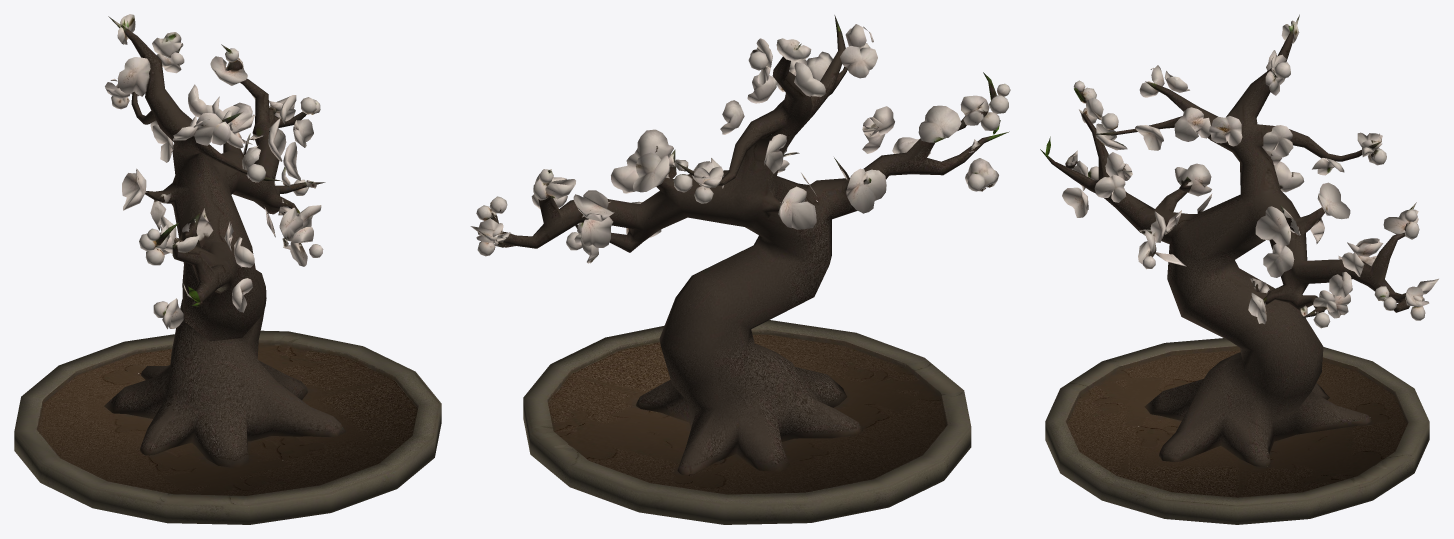
The model's file is tripo_convert_e74b82d9-6e04-4efb-816a-5839c6bb8b53.fbx.
The picture shows the model from 3 angles, left to right: view 1: azimuth 30°, elevation 25°; view 2: azimuth 150°, elevation 25°; view 3: azimuth 270°, elevation 25°; orthographic projection. The views are drawn at different scales.
Parts seen in each view (by area): view 1: tripo_node_e74b82d9; view 2: tripo_node_e74b82d9; view 3: tripo_node_e74b82d9.
Part boxes in pixels (bbox=[...]): tripo_node_e74b82d9: bbox=[14, 14, 441, 524]; tripo_node_e74b82d9: bbox=[470, 15, 1010, 524]; tripo_node_e74b82d9: bbox=[1040, 14, 1438, 524].
Size of the model in its own units: 0.9395 by 0.998 by 0.9355.
Materials: 1 (1 with a texture image).
